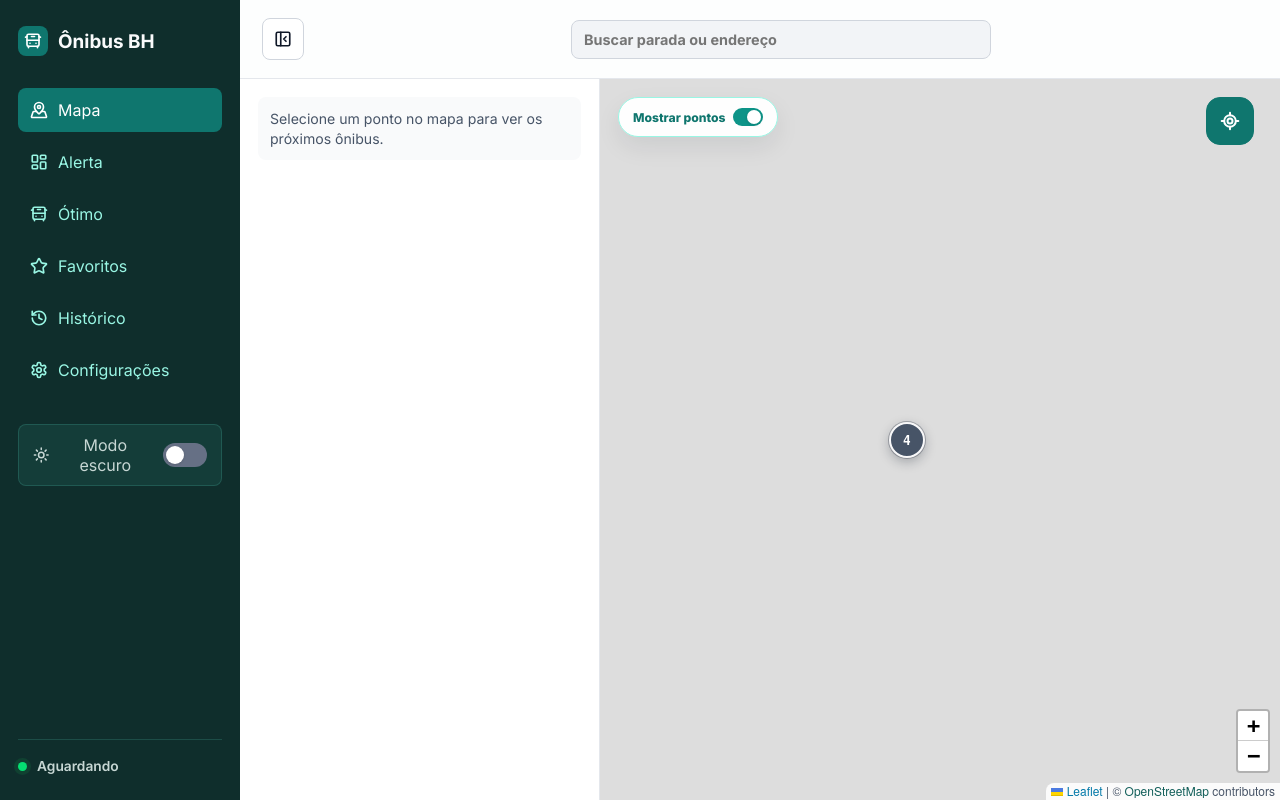
Test: App › mantém o mapa Mobilibus local quando os pontos falham e permite repetir
What coordinates should you click on to do the following:
click the button "Ótimo"
I would click on:
 (120, 214)
Its box is left=18, top=192, right=222, bottom=236.
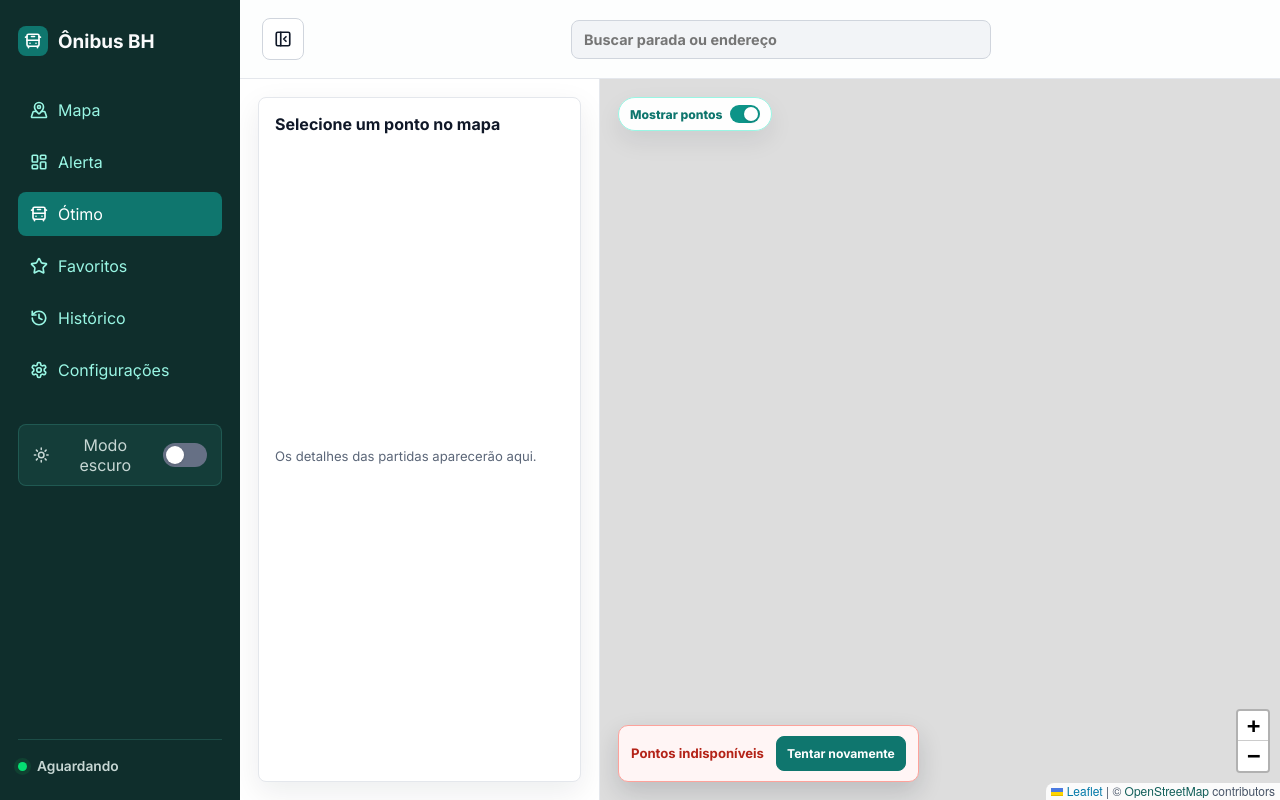
expect the text "Pontos indisponíveis" is shown: met, box left=631, top=744, right=764, bottom=763
What coordinates should you click on to do the following:
click the button "Tentar novamente"
I would click on:
 (841, 754)
Its box is left=776, top=736, right=906, bottom=771.
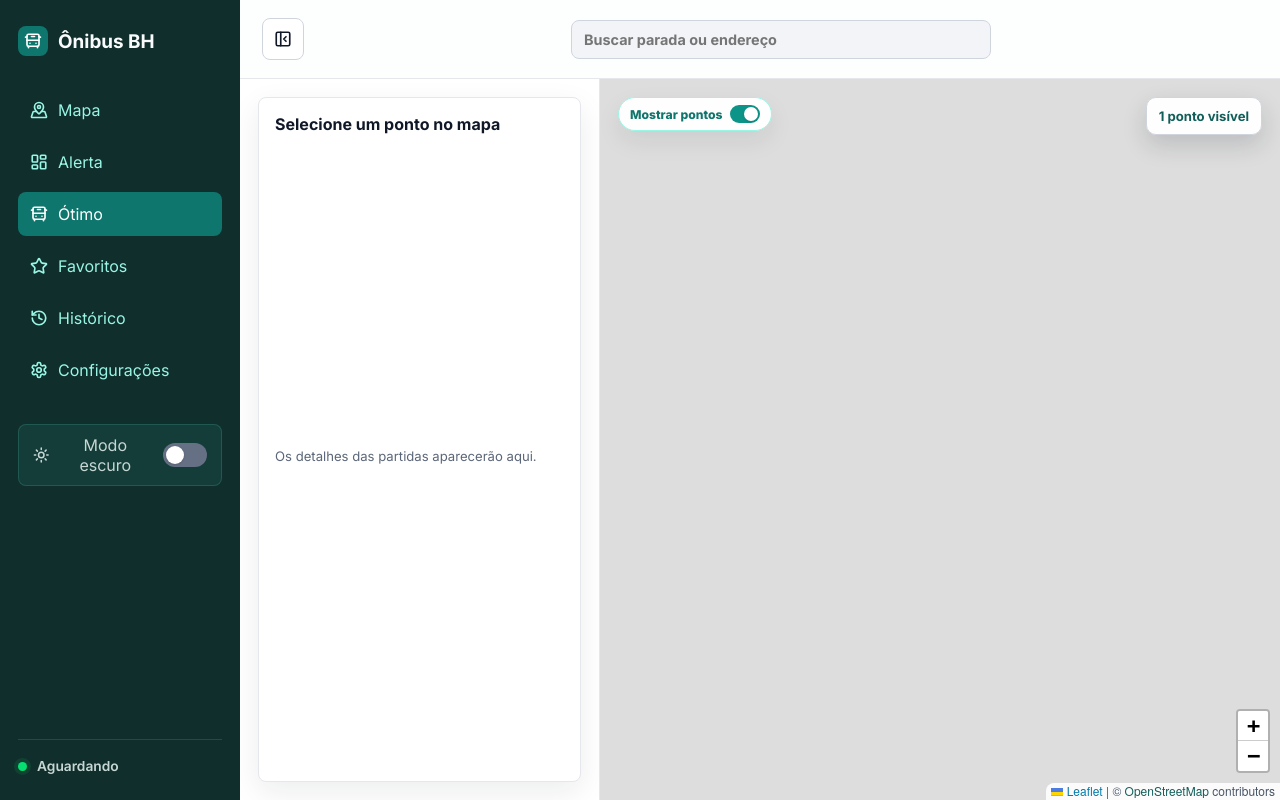
expect the text "1 ponto visível" is shown: met, box left=1146, top=97, right=1262, bottom=135
